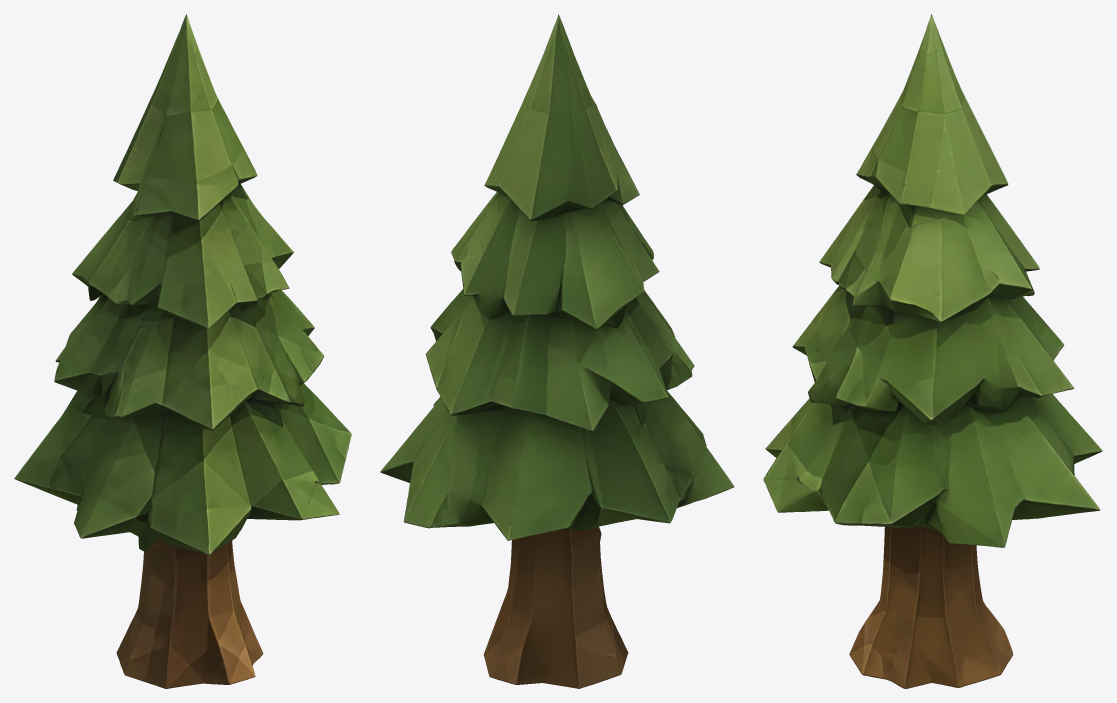
File: tree.glb
3 views of the same model, side by side, from view 1: azimuth 30°, elevation 25°; view 2: azimuth 150°, elevation 25°; view 3: azimuth 270°, elevation 25° (orthographic).
Visible parts, largest first — view 1: model; view 2: model; view 3: model.
Part boxes in pixels (x1,y1,x2,y2): model: (14,14,351,688); model: (380,14,734,688); model: (763,14,1102,688).
Bounding box in the file's own units: 0.8835 × 1.9 × 0.9054.
Materials: 1 (1 with a texture image).
